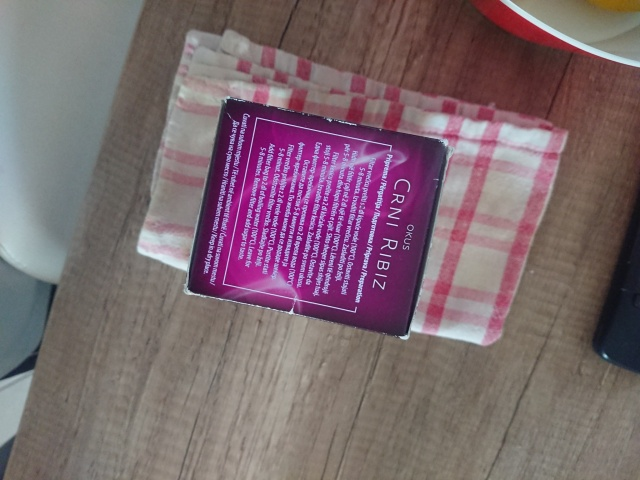Franck Black Currant Tea 60g: (179, 93, 456, 343)
